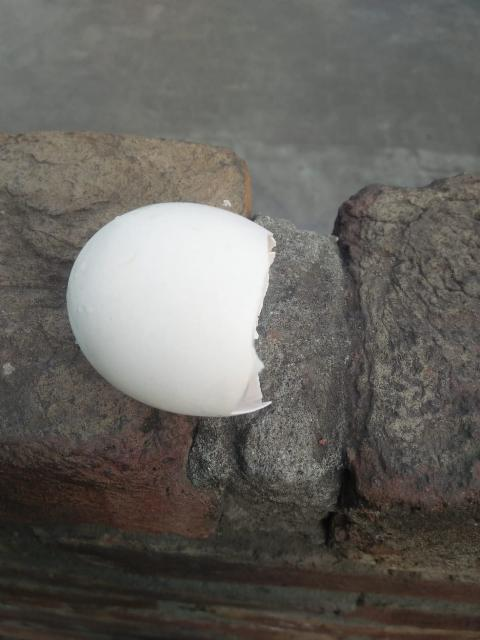Roto: (65, 200, 277, 418)
